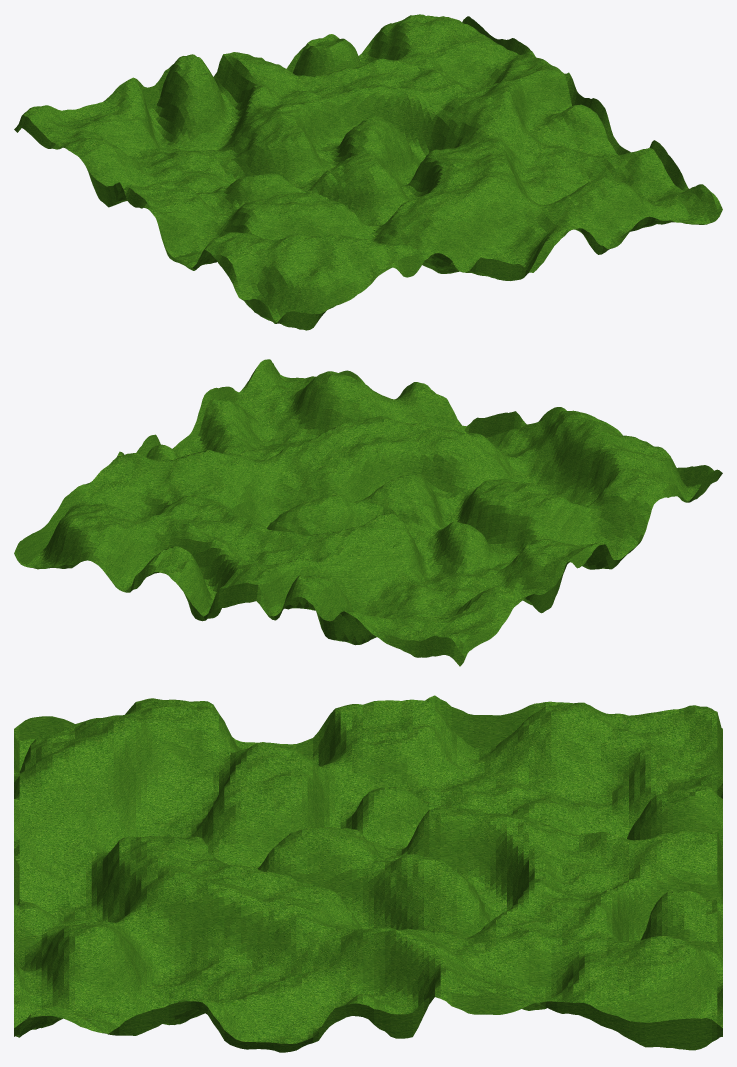
Rendered from Map2.obj.
3 renders of one model, top to bottom at view 1: azimuth 30°, elevation 25°; view 2: azimuth 150°, elevation 25°; view 3: azimuth 270°, elevation 25°, orthographic. The views are drawn at different scales.
Visible parts, largest first — view 1: Plane_Plane.001; view 2: Plane_Plane.001; view 3: Plane_Plane.001.
Part boxes in pixels (x1=…): Plane_Plane.001: x1=14, y1=14, x2=722, y2=330; Plane_Plane.001: x1=14, y1=359, x2=722, y2=666; Plane_Plane.001: x1=14, y1=695, x2=722, y2=1052.
Bounding box in the file's own units: 64 × 9.78 × 64.
Materials: 1 (1 with a texture image).
